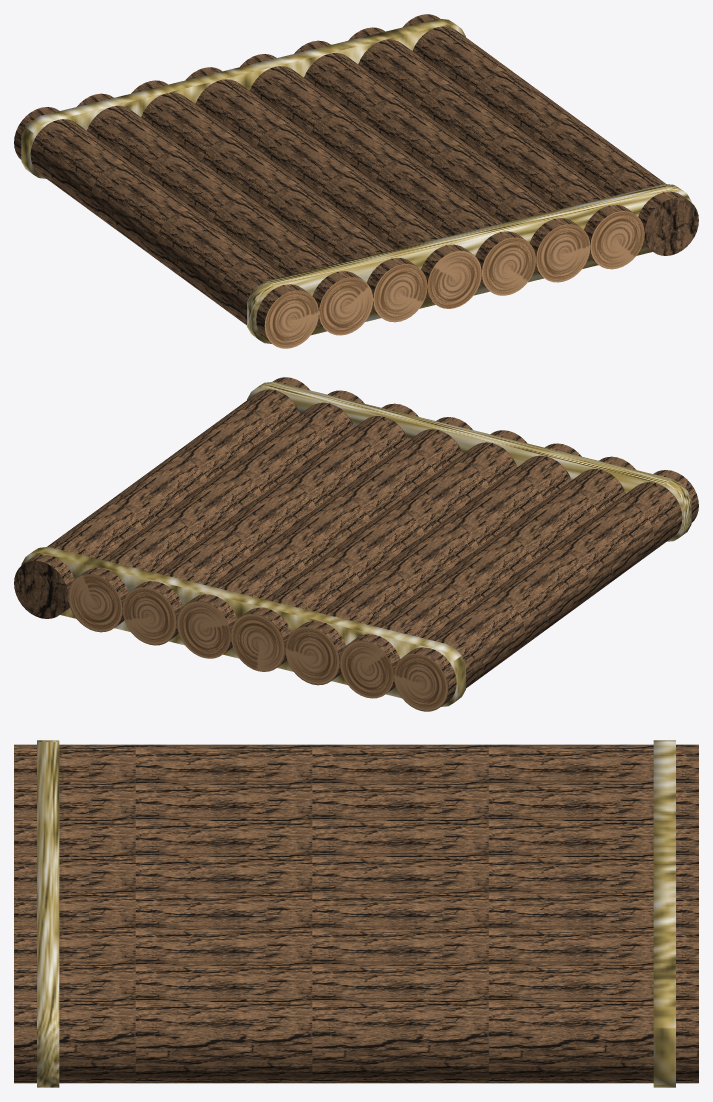
Rendered from logPlat.glb.
3 views of the same model, one above another, from view 1: azimuth 30°, elevation 25°; view 2: azimuth 150°, elevation 25°; view 3: azimuth 270°, elevation 25° (orthographic). The views are drawn at different scales.
Visible parts, largest first — view 1: Cylinder-convcol, Cylinder.002, Cylinder.001; view 2: Cylinder-convcol, Cylinder.001, Cylinder.002; view 3: Cylinder-convcol, Cylinder.001, Cylinder.002.
Boxes of the visible parts, left/top/right/bottom form: Cylinder-convcol: left=14, top=14, right=698, bottom=348; Cylinder.002: left=247, top=184, right=691, bottom=343; Cylinder.001: left=21, top=18, right=465, bottom=178; Cylinder-convcol: left=14, top=377, right=698, bottom=711; Cylinder.001: left=21, top=547, right=465, bottom=706; Cylinder.002: left=247, top=381, right=691, bottom=541; Cylinder-convcol: left=14, top=744, right=698, bottom=1083; Cylinder.001: left=653, top=740, right=675, bottom=1087; Cylinder.002: left=37, top=740, right=59, bottom=1087.
Bounding box in the file's own units: 8.04 × 1.01 × 8.
Materials: 3 (3 with a texture image).
